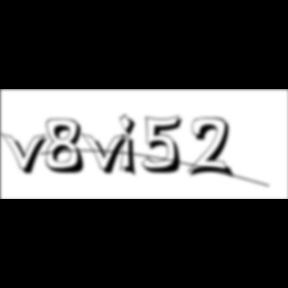2: (188, 117, 238, 181)
5: (142, 114, 188, 176)
8: (46, 117, 92, 176)
i: (120, 112, 144, 180)
v: (0, 131, 54, 177), (80, 131, 134, 177)
